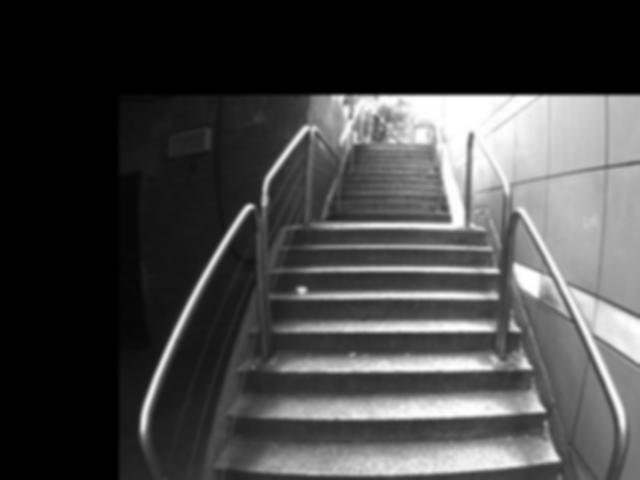Escaleras: (208, 199, 594, 480), (309, 123, 456, 218)
